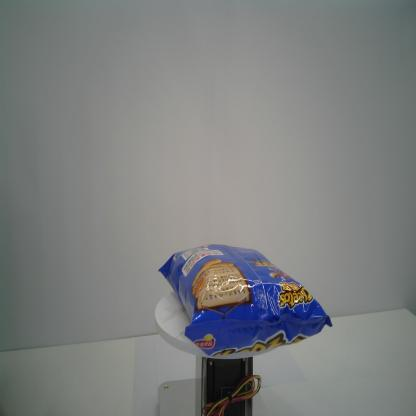Puffed Food: (157, 242, 334, 360)
